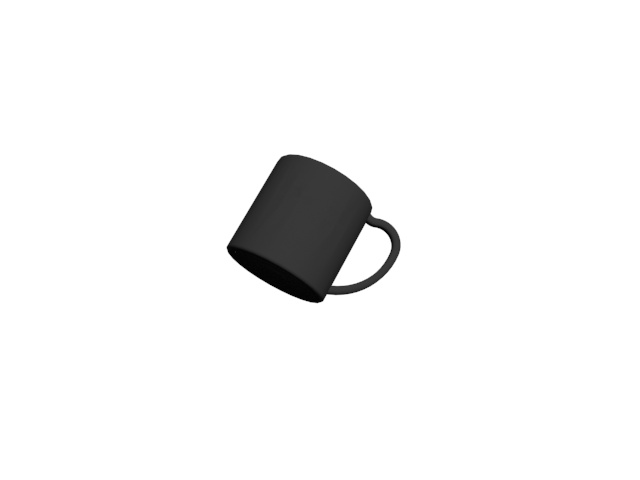mug: (225, 153, 408, 304)
